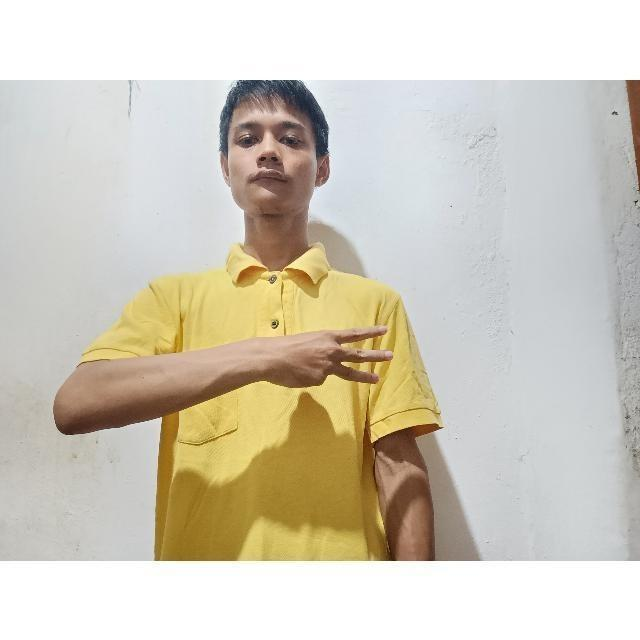E: (252, 320, 398, 393)
